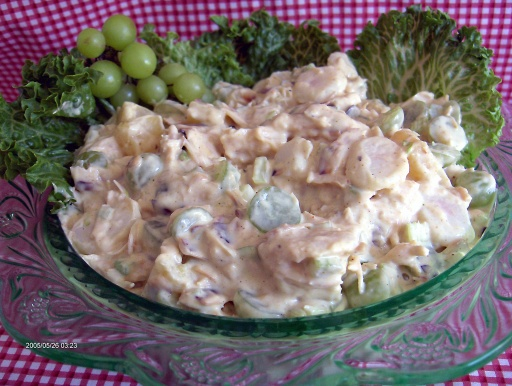background: (0, 1, 405, 192)
